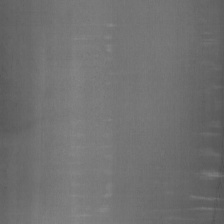waist_folding: (67, 13, 220, 214)
